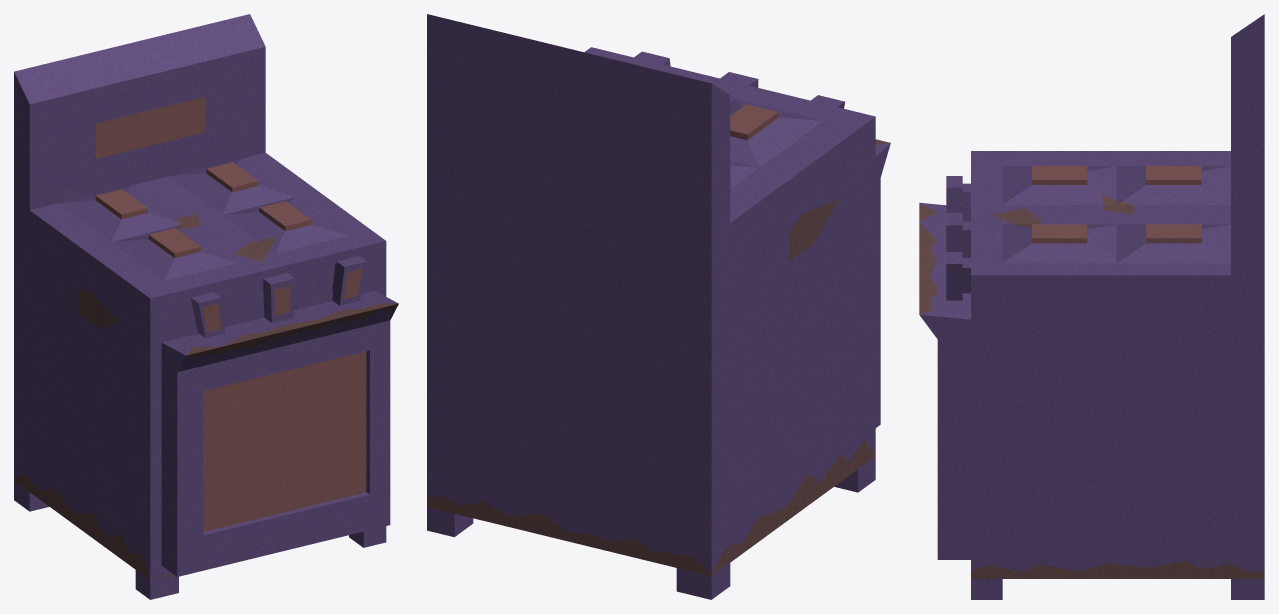
Rendered from CLStove.fbx.
3 views of the same model, side by side, from view 1: azimuth 30°, elevation 25°; view 2: azimuth 150°, elevation 25°; view 3: azimuth 270°, elevation 25° (orthographic). The views are drawn at different scales.
Visible parts, largest first — view 1: Stove.002; view 2: Stove.002; view 3: Stove.002.
Boxes of the visible parts, x1,y1,x2,y2 form: Stove.002: [14, 14, 398, 599]; Stove.002: [427, 14, 890, 599]; Stove.002: [919, 14, 1264, 599].
Size of the model in its own units: 73.26 by 127 by 86.19.
